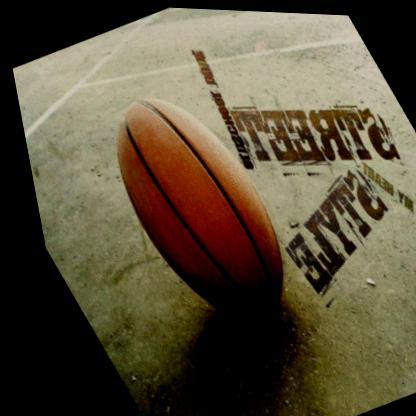basketball: (71, 74, 309, 332)
